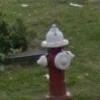Hydrant: (31, 18, 79, 100)
